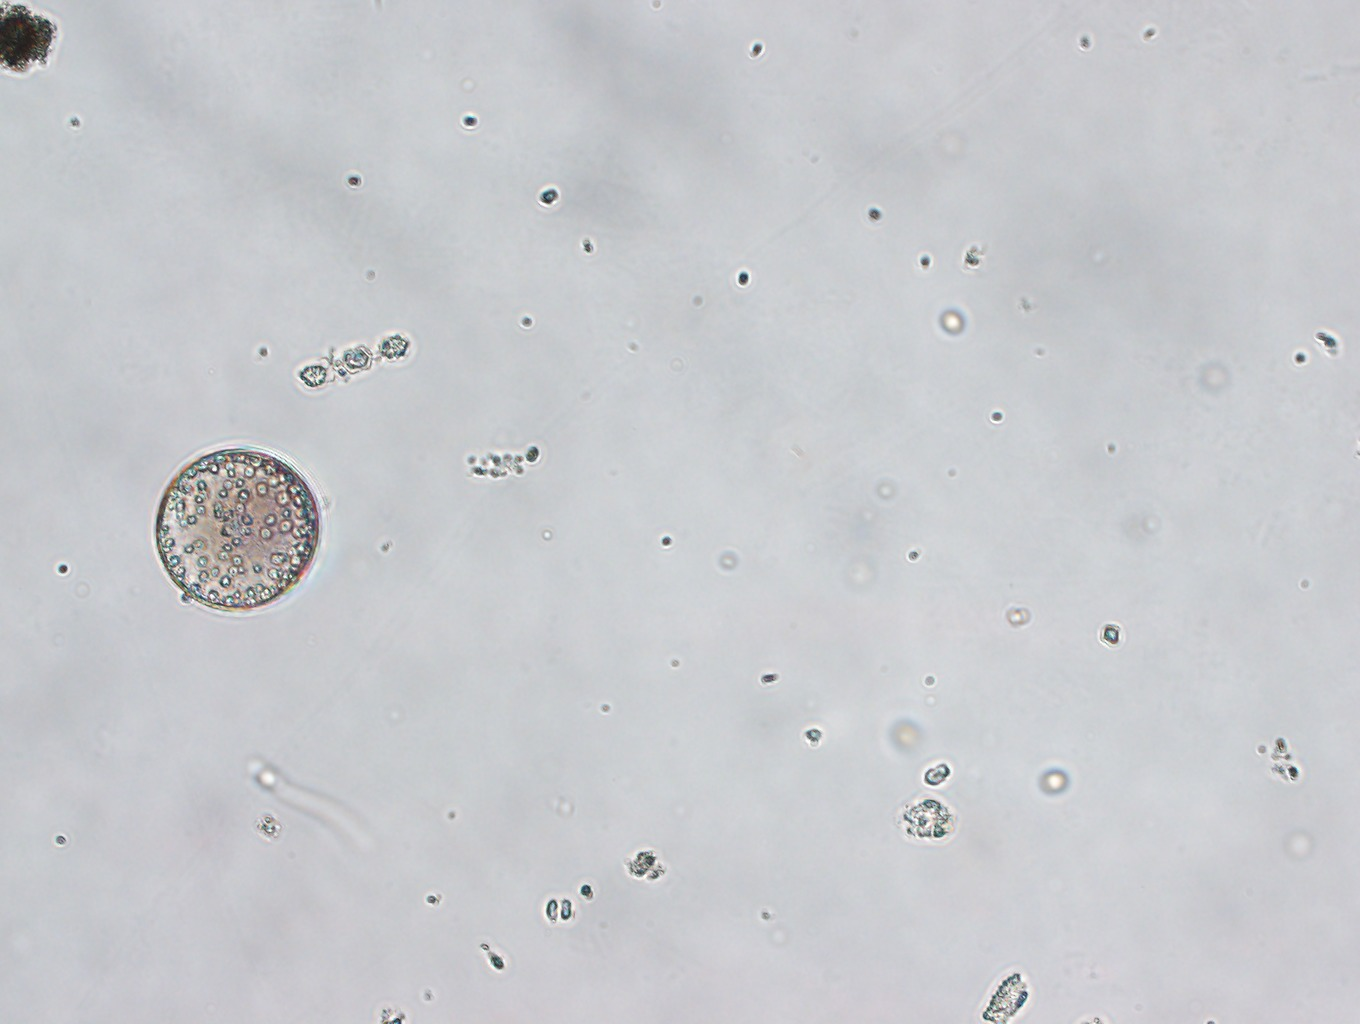coscinodiscus: (148, 439, 327, 617)
